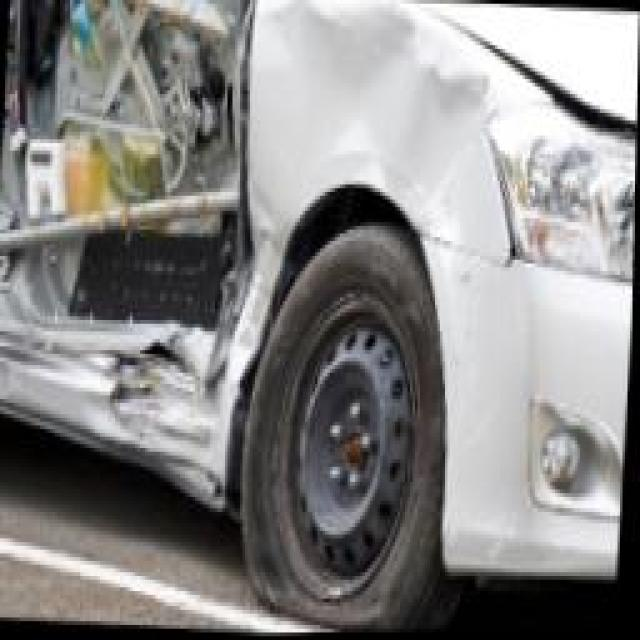Door: (0, 0, 260, 407)
Fender: (238, 0, 520, 274)
